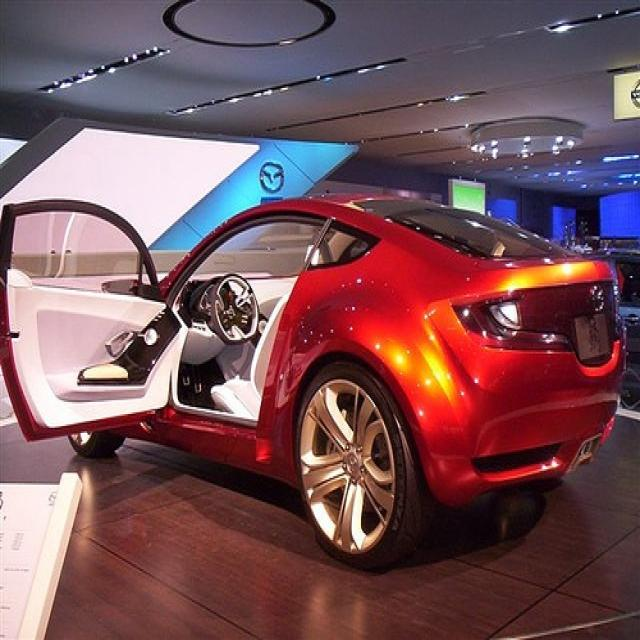car: (0, 197, 622, 568)
